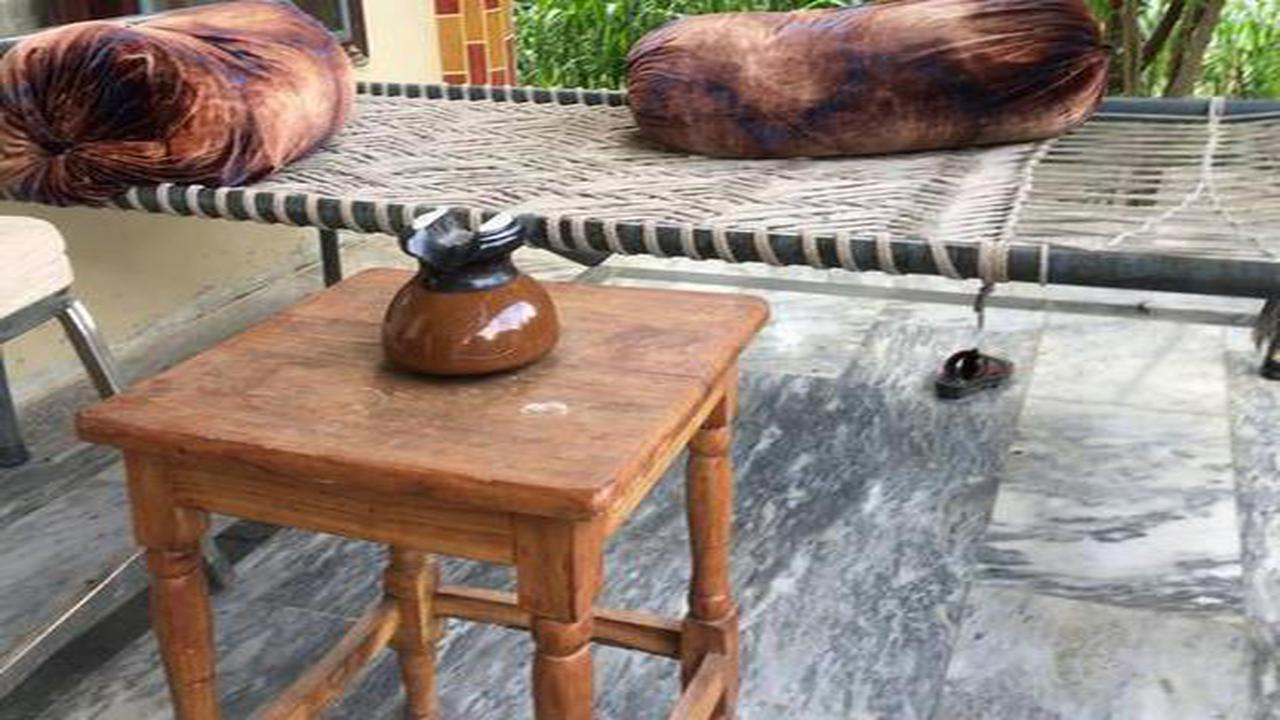insulator_pin: (367, 194, 585, 386)
